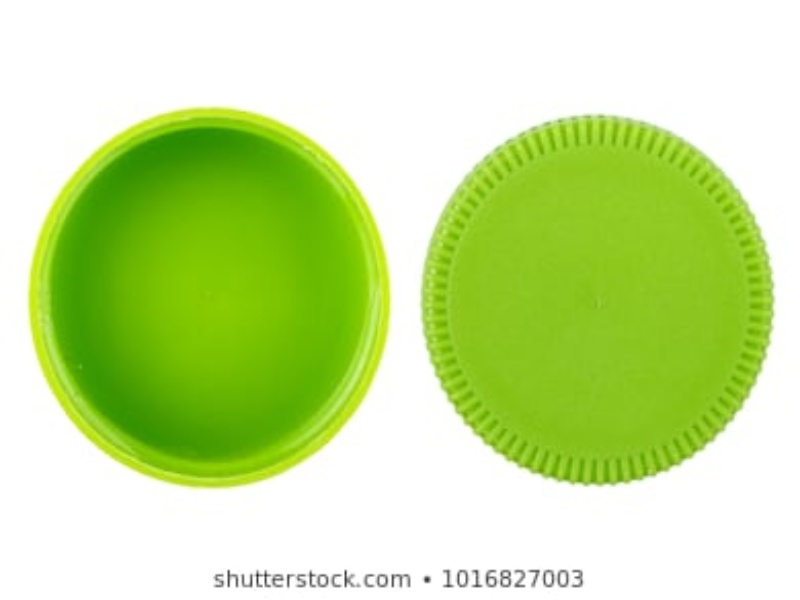bottle-cap: (24, 109, 393, 488), (419, 116, 775, 488)
